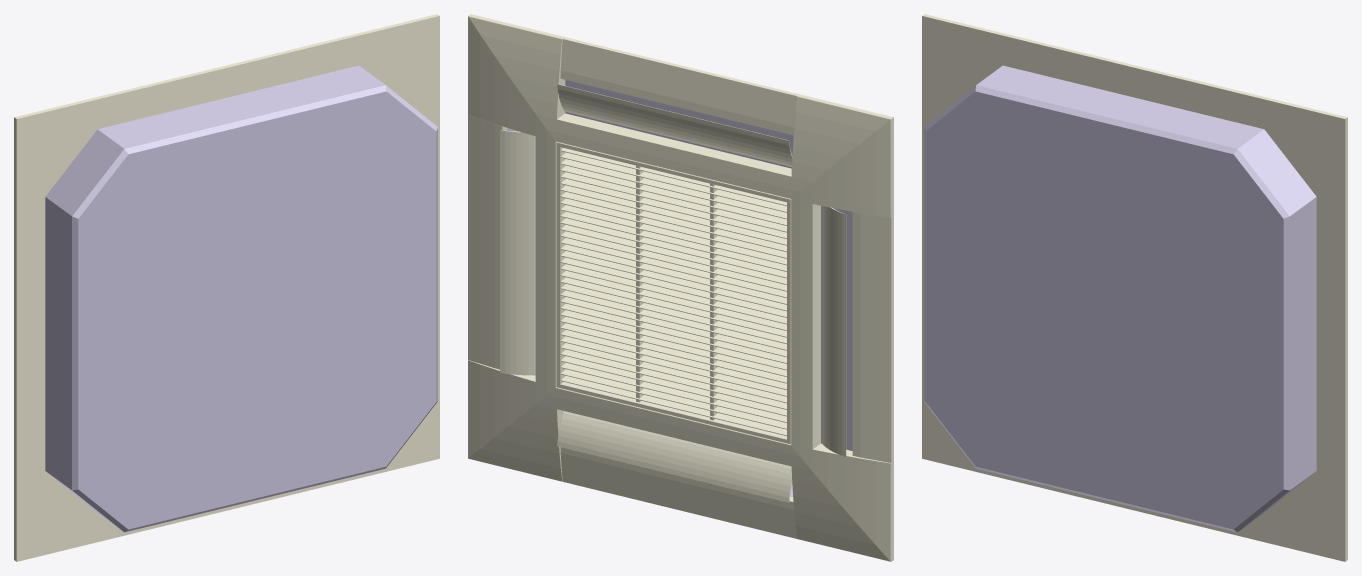
Rendered from 4_way_model.glb.
3 renders of one model, left to right at view 1: azimuth 30°, elevation 25°; view 2: azimuth 150°, elevation 25°; view 3: azimuth 330°, elevation 25°, orthographic.
Visible parts, largest first — view 1: Node1; view 2: Node1; view 3: Node1.
Part boxes in pixels (x1,y1,x2,y2): Node1: (14,14,439,561); Node1: (468,14,893,561); Node1: (922,14,1347,561).
Bounding box in the file's own units: 600 × 600 × 94.12.
